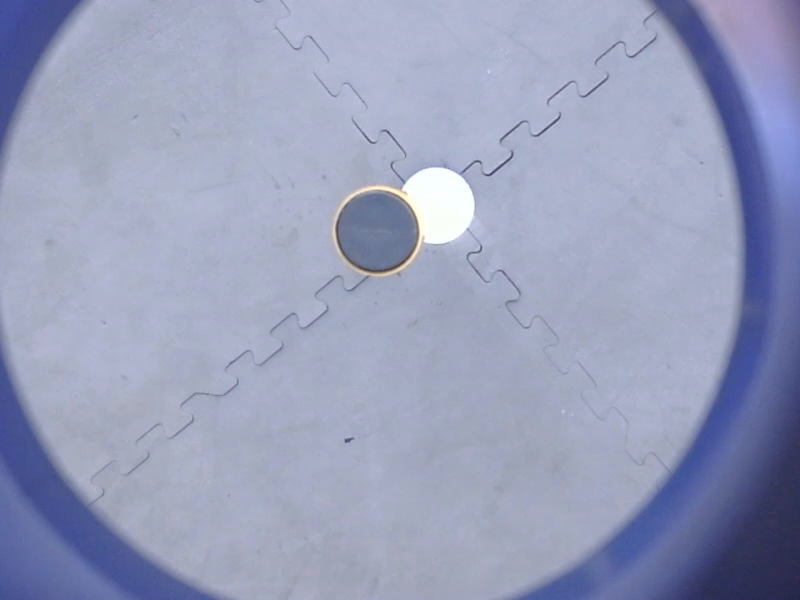tip: (328, 181, 427, 285)
